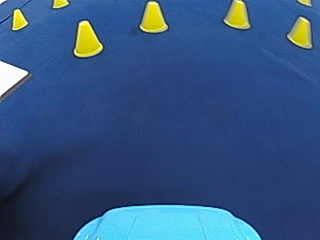cone: (72, 18, 103, 56), (138, 1, 168, 32), (286, 15, 312, 48), (222, 0, 251, 28), (10, 8, 27, 29), (53, 0, 67, 8)
